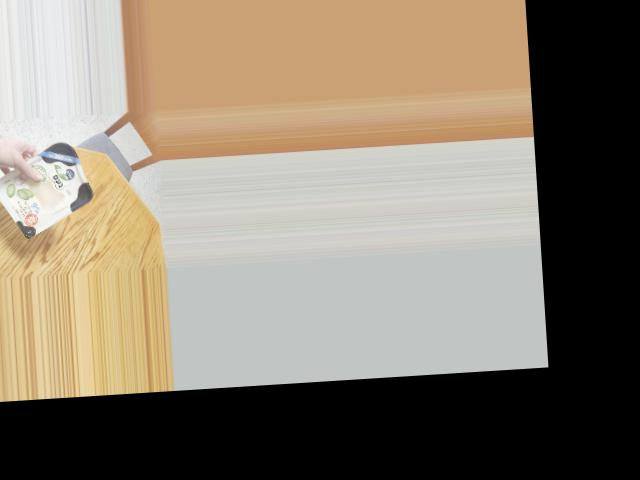cheese: (0, 142, 93, 234)
